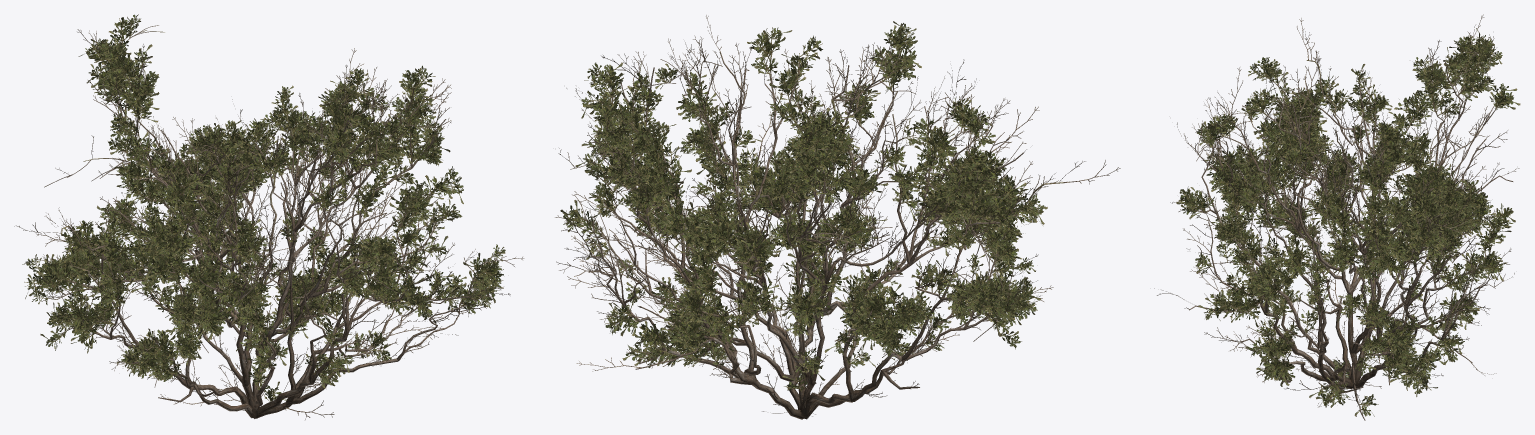
Rendered from dry_bush.glb.
3 renders of one model, left to right at view 1: azimuth 30°, elevation 25°; view 2: azimuth 150°, elevation 25°; view 3: azimuth 270°, elevation 25°, orthographic. The views are drawn at different scales.
Parts seen in each view (by area): view 1: searsia_burchellii_medium_LOD0; view 2: searsia_burchellii_medium_LOD0; view 3: searsia_burchellii_medium_LOD0.
Part boxes in pixels (x1,y1,x2,y2): searsia_burchellii_medium_LOD0: (14, 14, 524, 419); searsia_burchellii_medium_LOD0: (555, 15, 1120, 419); searsia_burchellii_medium_LOD0: (1154, 14, 1520, 420).
Size of the model in its own units: 3.58 by 2.59 by 2.61.
Materials: 3 (3 with a texture image).
